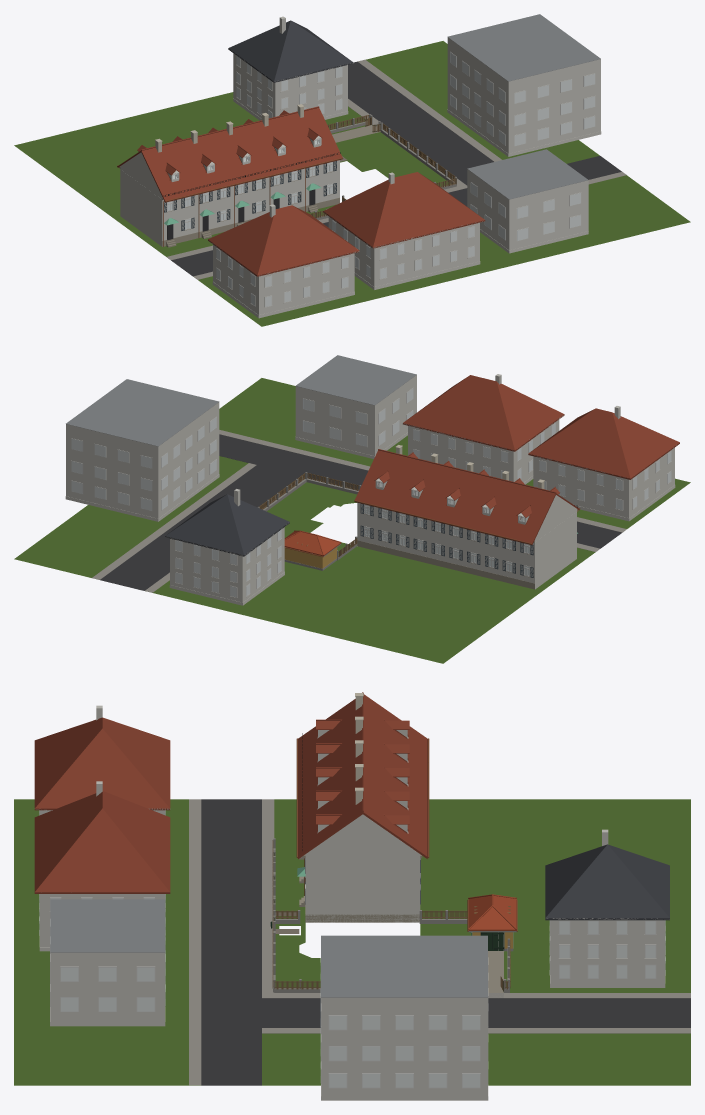
File: umgebung.glb
3 views of the same model, one above another, from view 1: azimuth 30°, elevation 25°; view 2: azimuth 150°, elevation 25°; view 3: azimuth 270°, elevation 25° (orthographic). The views are drawn at different scales.
Parts seen in each view (by area): view 1: umgebung; view 2: umgebung; view 3: umgebung.
Boxes of the visible parts, x1,y1,x2,y2 form: umgebung: [14, 14, 690, 326]; umgebung: [14, 355, 690, 663]; umgebung: [14, 692, 690, 1100].
Bounding box in the file's own units: 68.46 × 14.23 × 65.
